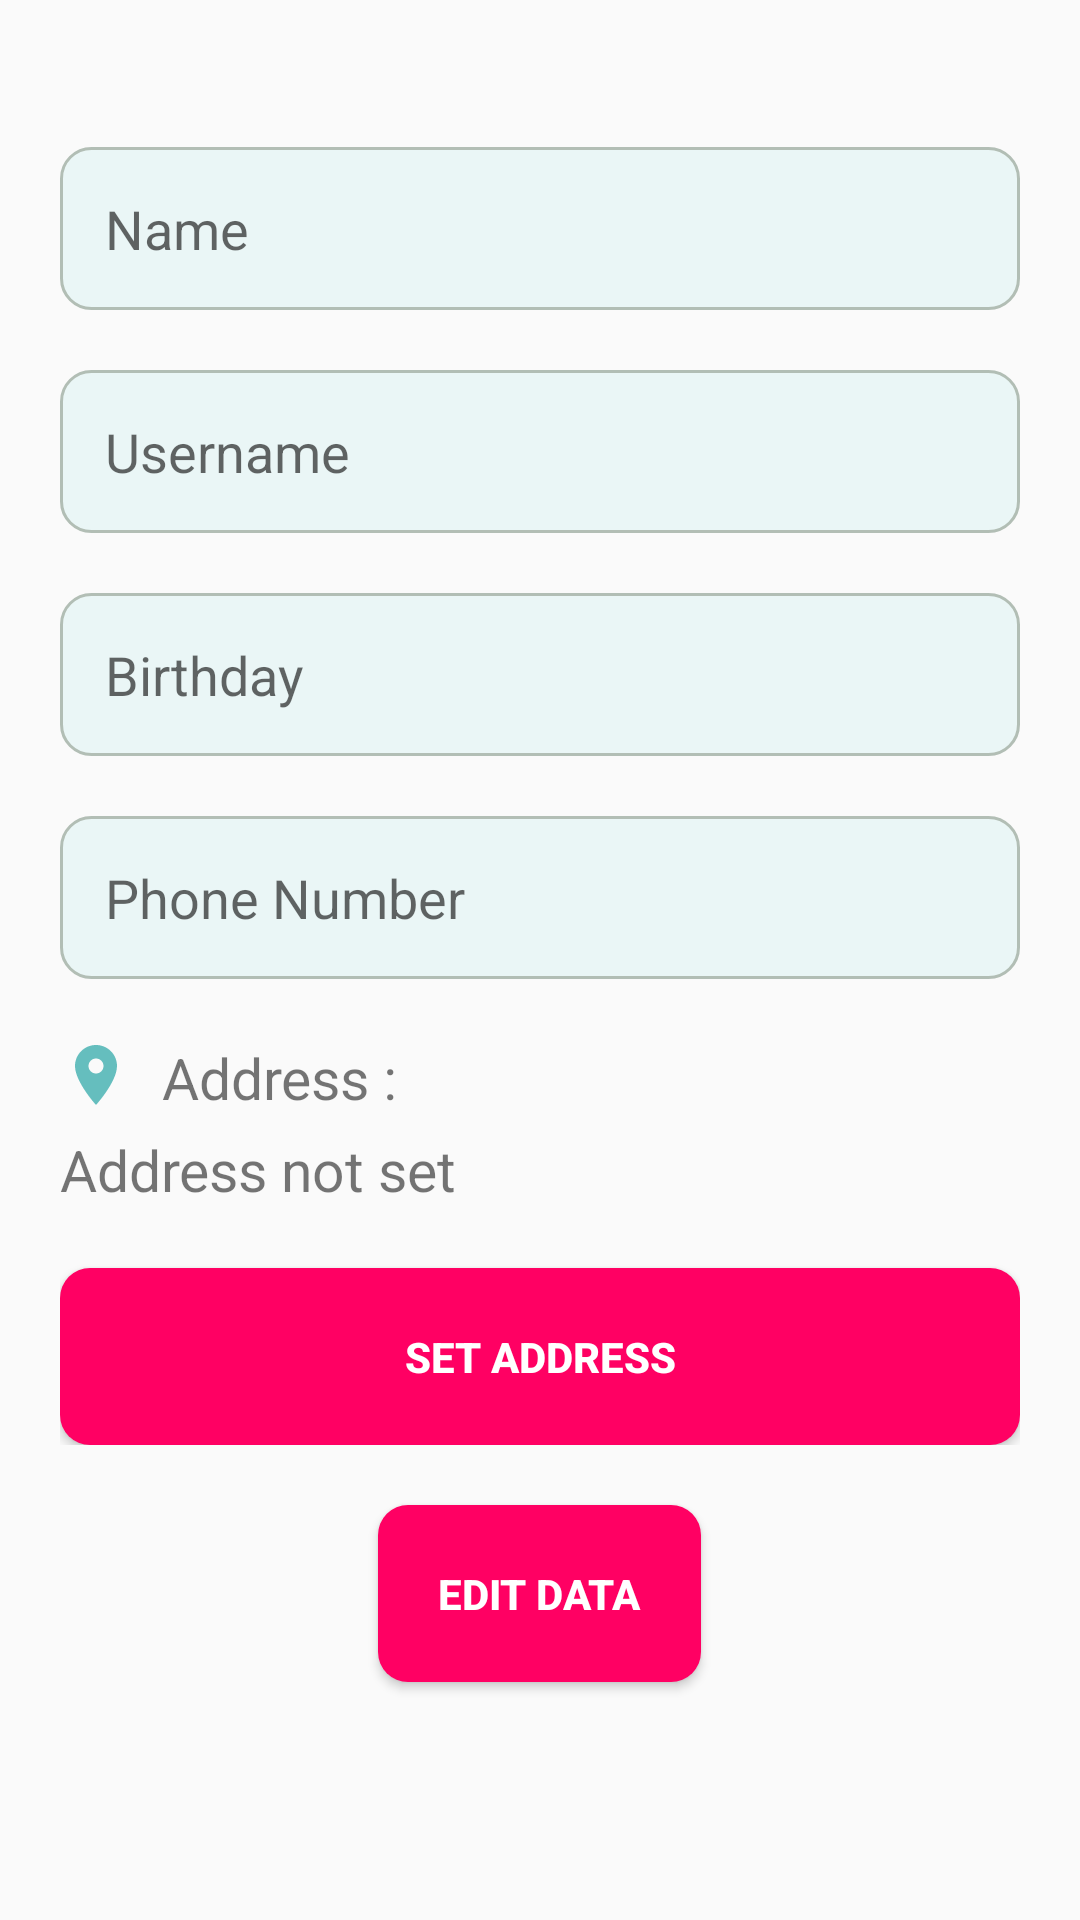

Where icons sit on this 1080px x 1920px app screen, as (x1, y1, x2, y2):
location on: (75, 1045, 117, 1105)
